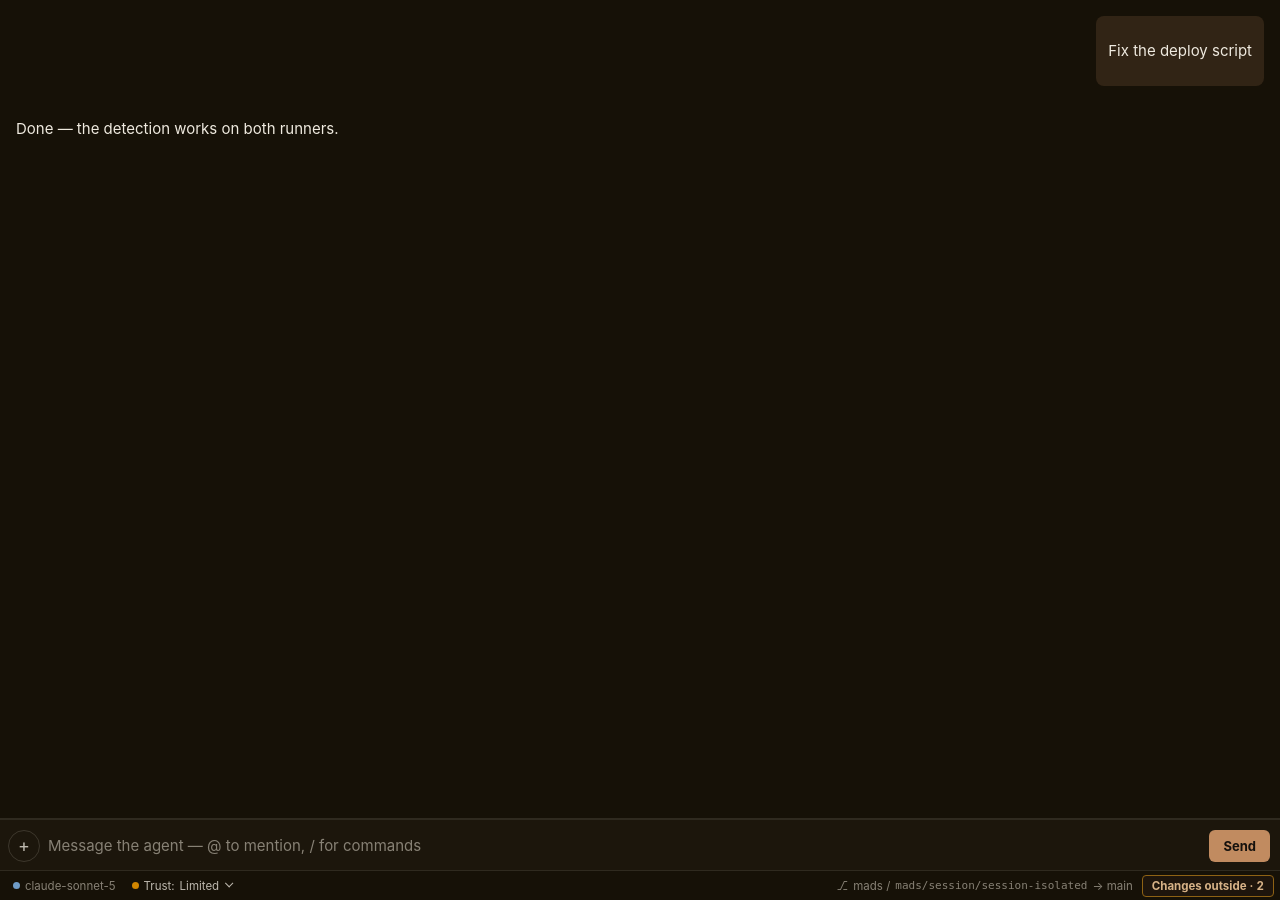
Test: ConversationTab — Commit and Land › explains changes outside the session in the ⎇ popover, whose Ask the agent drafts the tidy-up
Check: the text "Done — the detection works on both runners." is shown, box 16,117 -> 339,141
# The control opens the popover rather than drafting straight away.
Click the button "Changes outside · 2" at (1208, 886), box 1142,874 -> 1274,896
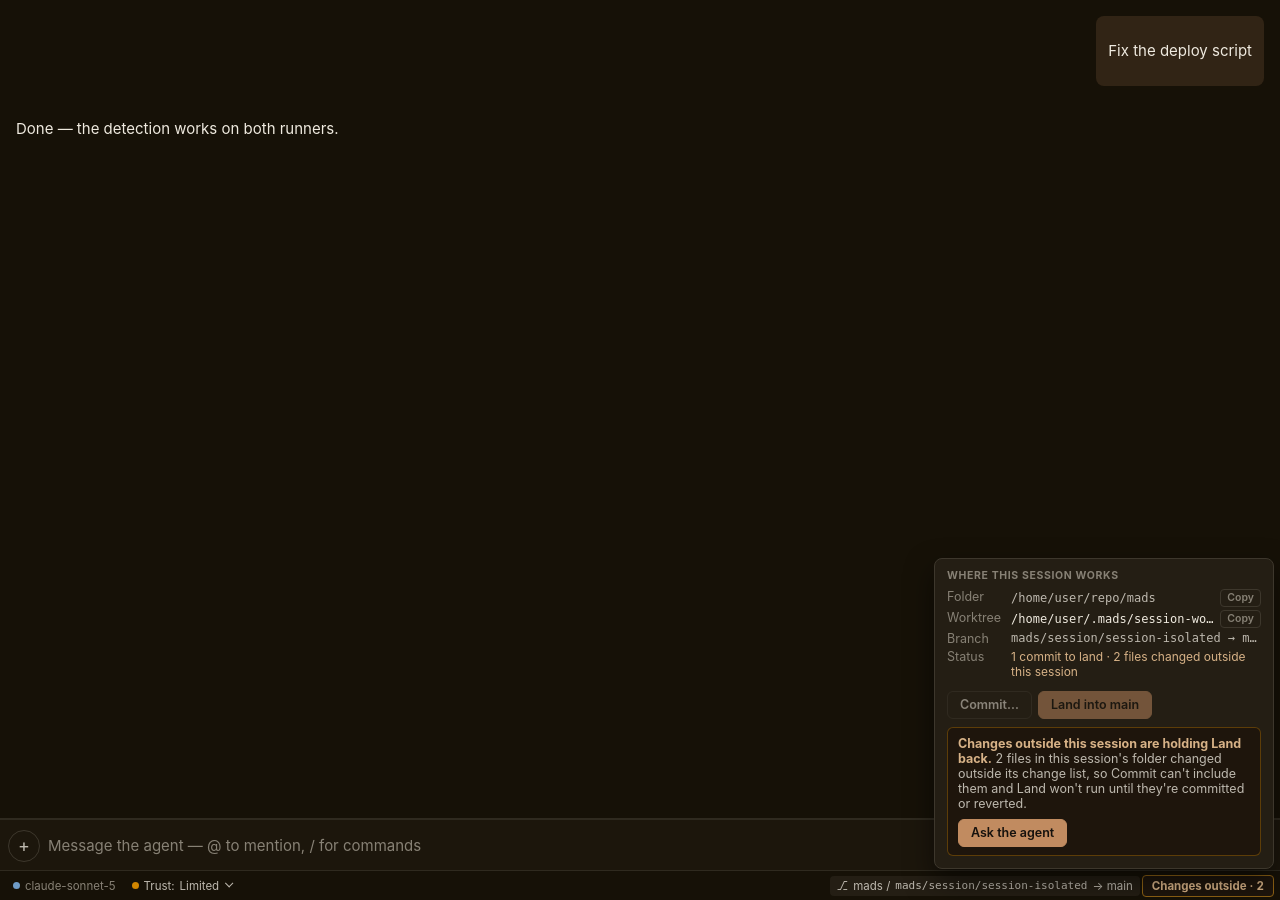
Check: the text box with placeholder "Message the agent — @ to mention, / for commands" is empty, box 46,830 -> 1204,862
Click the button "Ask the agent" at (1013, 832), box 958,818 -> 1067,846
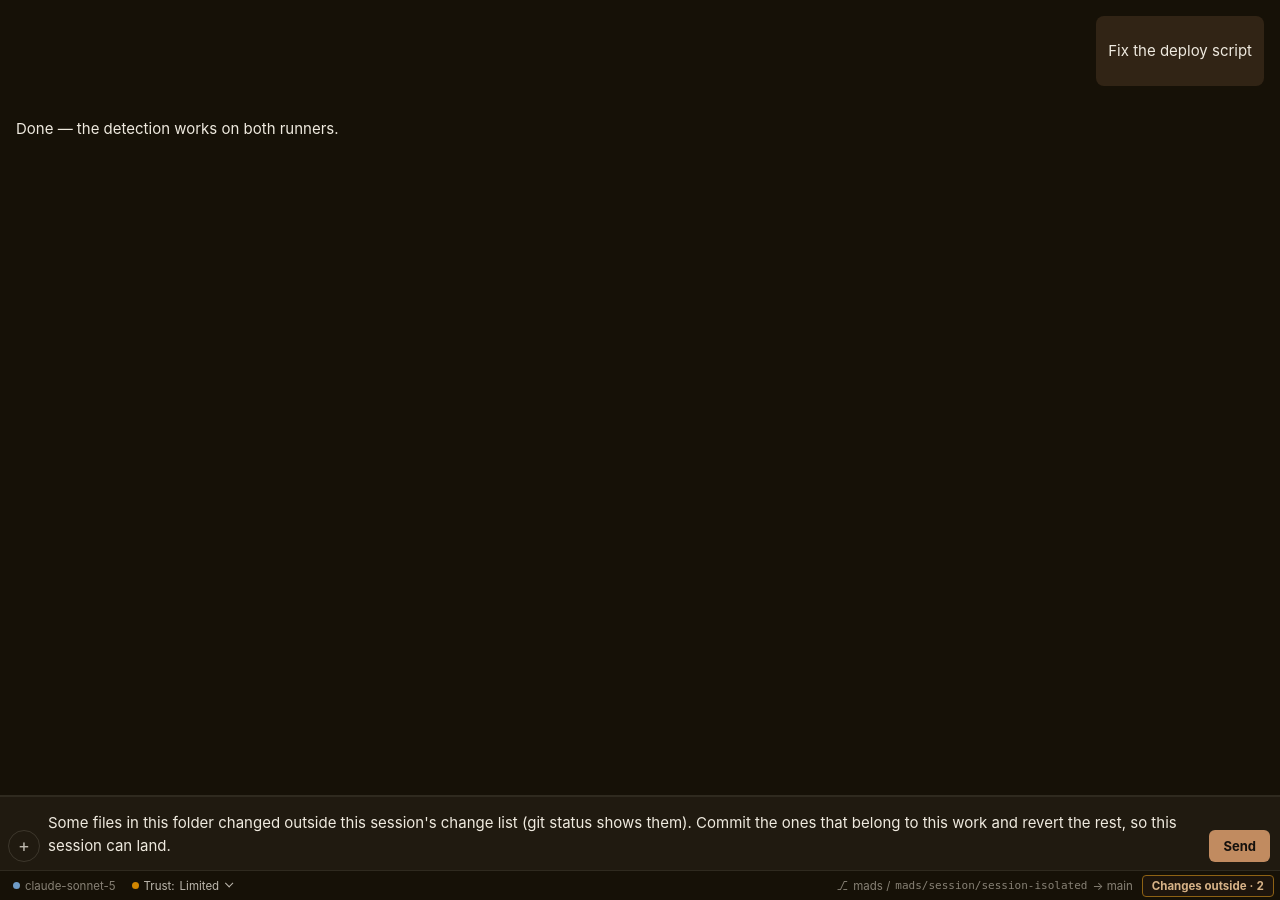
Check: the dialog with test id "work-popover" is gone
